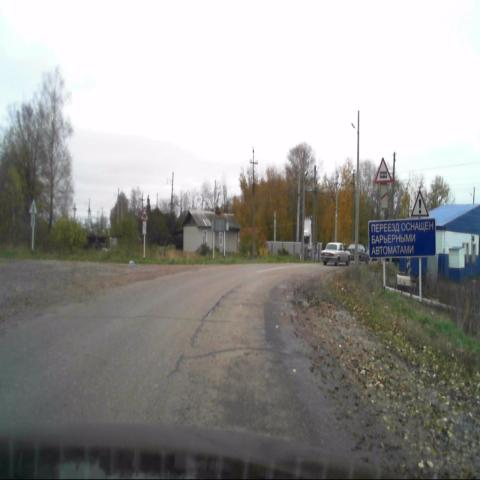1_33: (411, 190, 429, 216)
